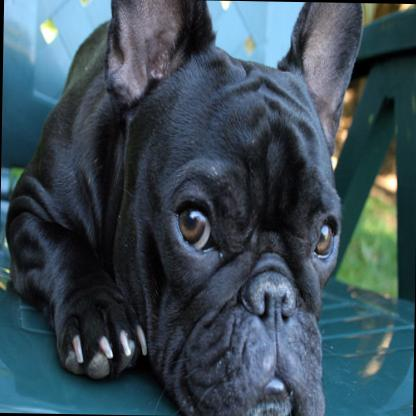French_bulldog: (0, 0, 364, 416)
